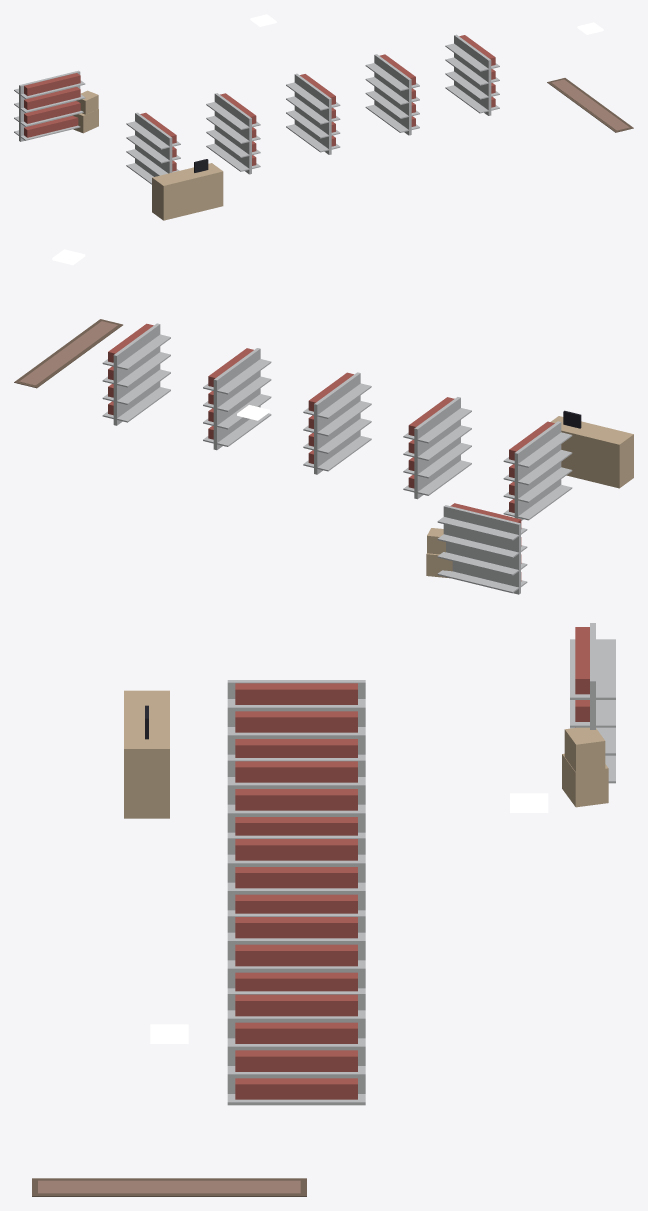
The model's file is fine-s0.glb.
3 views of the same model, one above another, from view 1: azimuth 30°, elevation 25°; view 2: azimuth 150°, elevation 25°; view 3: azimuth 270°, elevation 25° (orthographic). The views are drawn at different scales.
Parts seen in each view (by area): view 1: shelving.000, shop-counter.000, shelf.001, shelf.004, shelf.003, shelf.002, shelf.000, soft-s0, cardboard-box.000; view 2: shelving.000, shelf.004, shelf.001, shelf.002, shelf.000, shelf.003, shop-counter.000, soft-s0, cardboard-box.000; view 3: shelf.004, shelf.002, shelf.003, shelf.000, shelf.001, shop-counter.000, soft-s0, shelving.000, cardboard-box.000.
Boxes of the visible parts, x1,y1,x2,y2 form: shelving.000: [14, 70, 85, 141]; shop-counter.000: [152, 159, 223, 220]; shelf.001: [206, 93, 260, 174]; shelf.004: [445, 34, 499, 115]; shelf.003: [365, 54, 419, 135]; shelf.002: [286, 73, 340, 154]; shelf.000: [126, 112, 180, 184]; soft-s0: [547, 78, 633, 132]; cardboard-box.000: [73, 90, 98, 133]; shelving.000: [437, 503, 527, 594]; shelf.004: [102, 323, 170, 425]; shelf.001: [403, 397, 471, 499]; shelf.002: [303, 372, 371, 474]; shelf.000: [503, 421, 572, 520]; shelf.003: [203, 348, 271, 450]; shop-counter.000: [550, 410, 633, 488]; soft-s0: [14, 319, 122, 388]; cardboard-box.000: [426, 528, 452, 578]; shelf.004: [227, 991, 365, 1105]; shelf.002: [227, 835, 365, 913]; shelf.003: [227, 913, 365, 991]; shelf.000: [227, 680, 365, 757]; shelf.001: [227, 758, 365, 835]; shop-counter.000: [124, 690, 169, 818]; soft-s0: [32, 1178, 306, 1196]; shelving.000: [570, 623, 615, 783]; cardboard-box.000: [562, 727, 608, 807].
Bounding box in the file's own units: 14.26 × 2.24 × 7.61.
